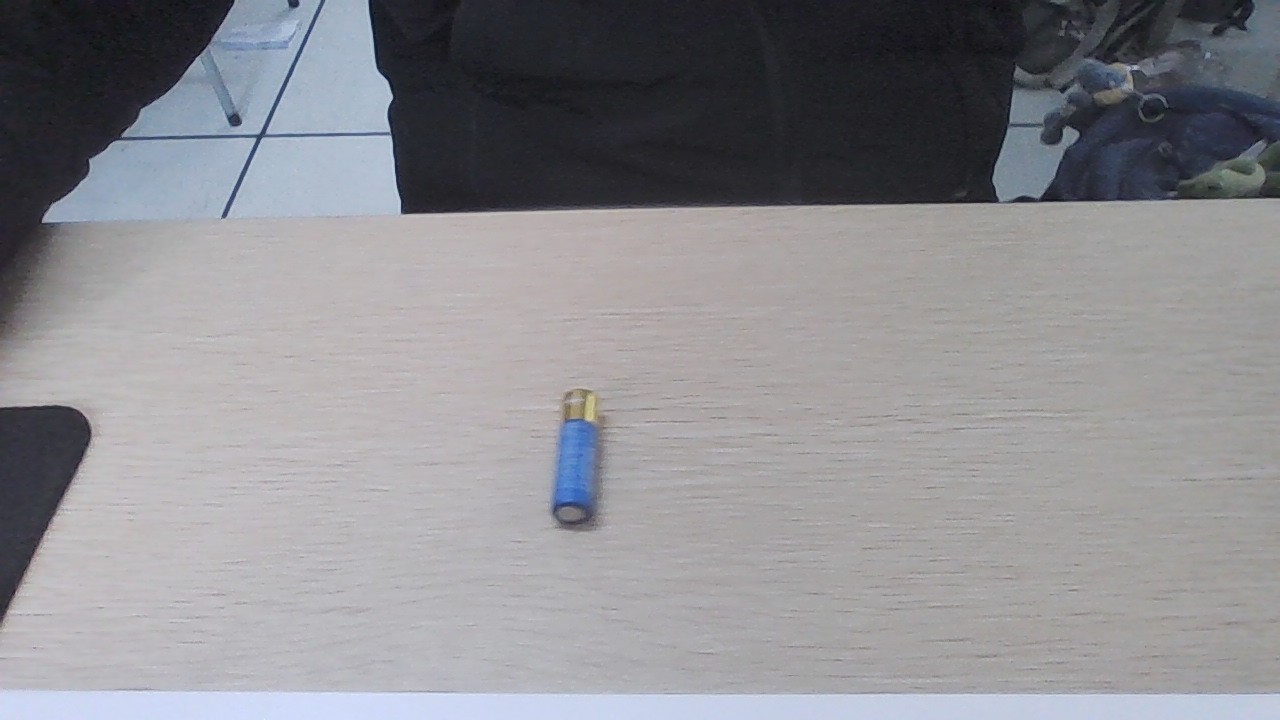YH-battery: (542, 384, 602, 522)
